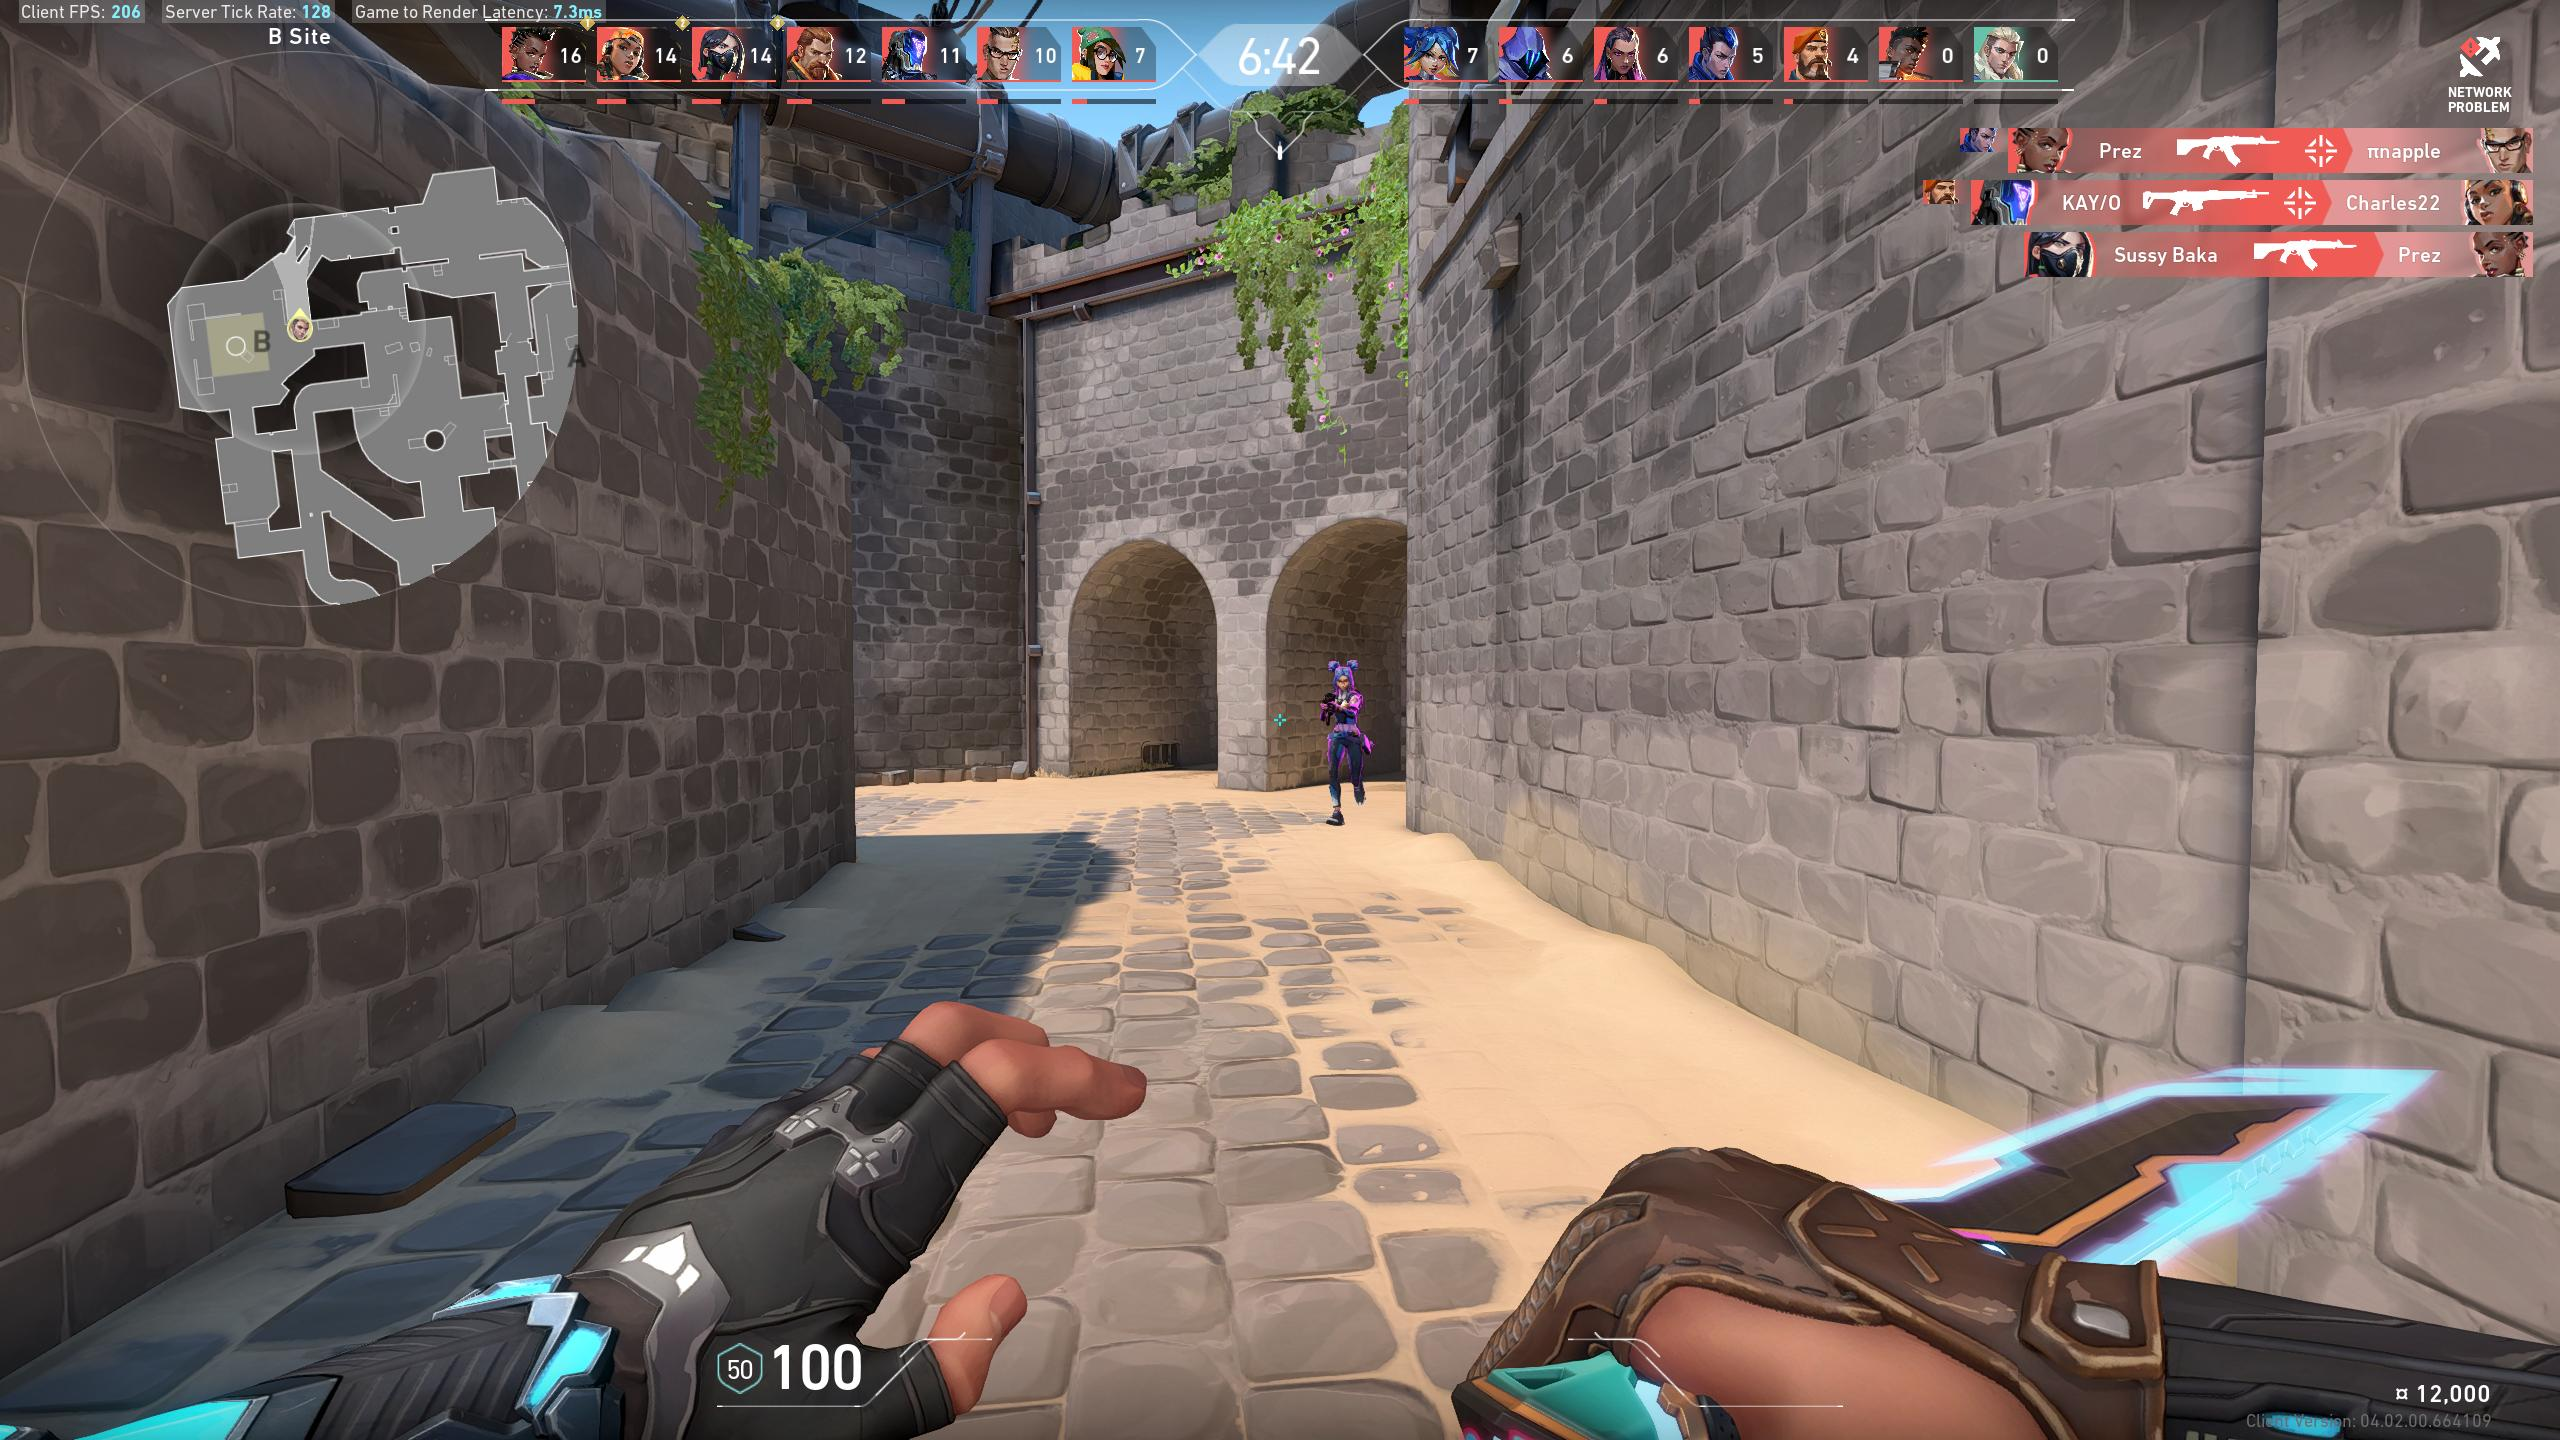enemyBody: (1336, 695, 1354, 731)
enemyHead: (1335, 670, 1350, 689)
